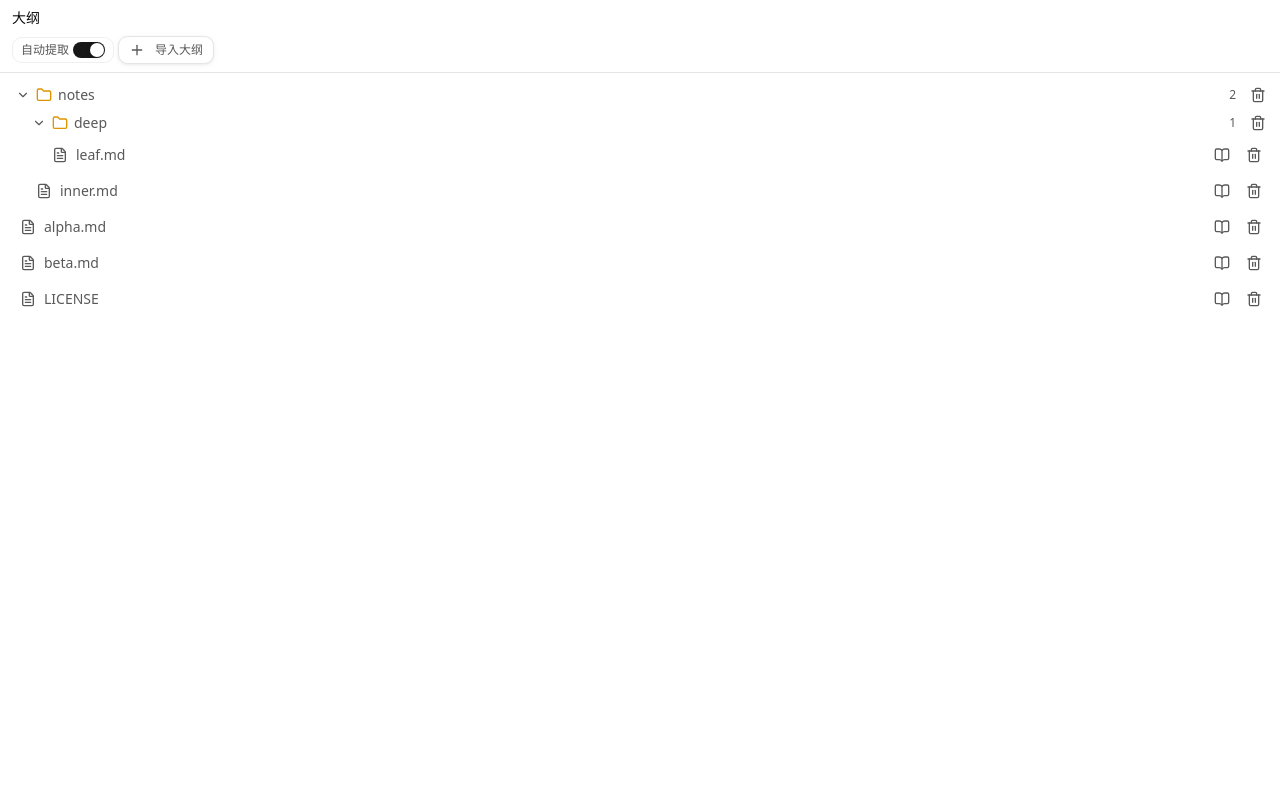
Test: SourceSidebar — 导入菜单 › 导入菜单：外部 mousedown / Escape 关闭，菜单内点击不关闭
The width and height of the screenshot is (1280, 800).
Expected: the text "alpha.md" is shown, 44,217 -> 106,237
Click the button "导入大纲": (166, 50) 118,36 -> 214,64
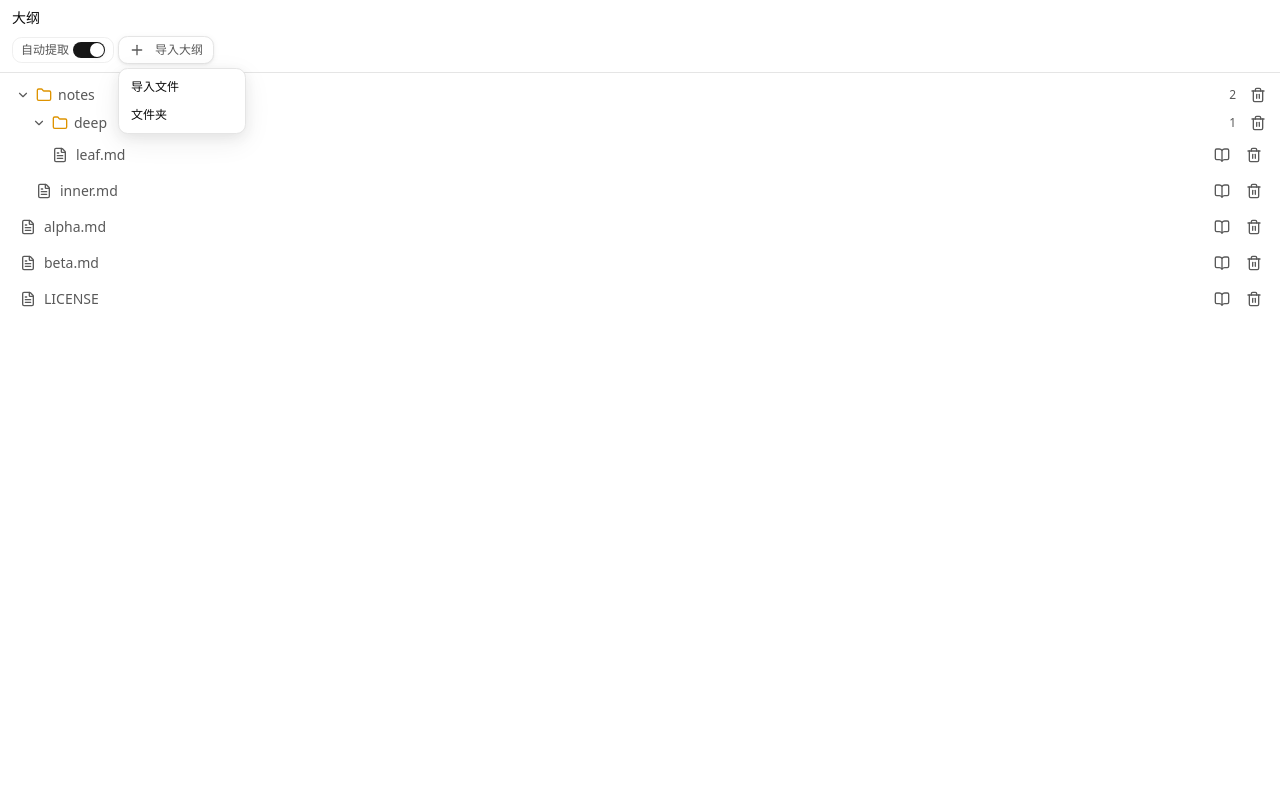
Expected: the button "导入文件" is shown
// 菜单内 pointerdown → 保持打开
Press the mouse on the button "导入文件": (182, 87) 119,73 -> 245,101
Expected: the button "导入文件" is shown, 119,73 -> 245,101
// 外部 pointerdown → 关闭
Press the mouse on the element that starts with "自动提取": (640, 400) 0,0 -> 1279,799
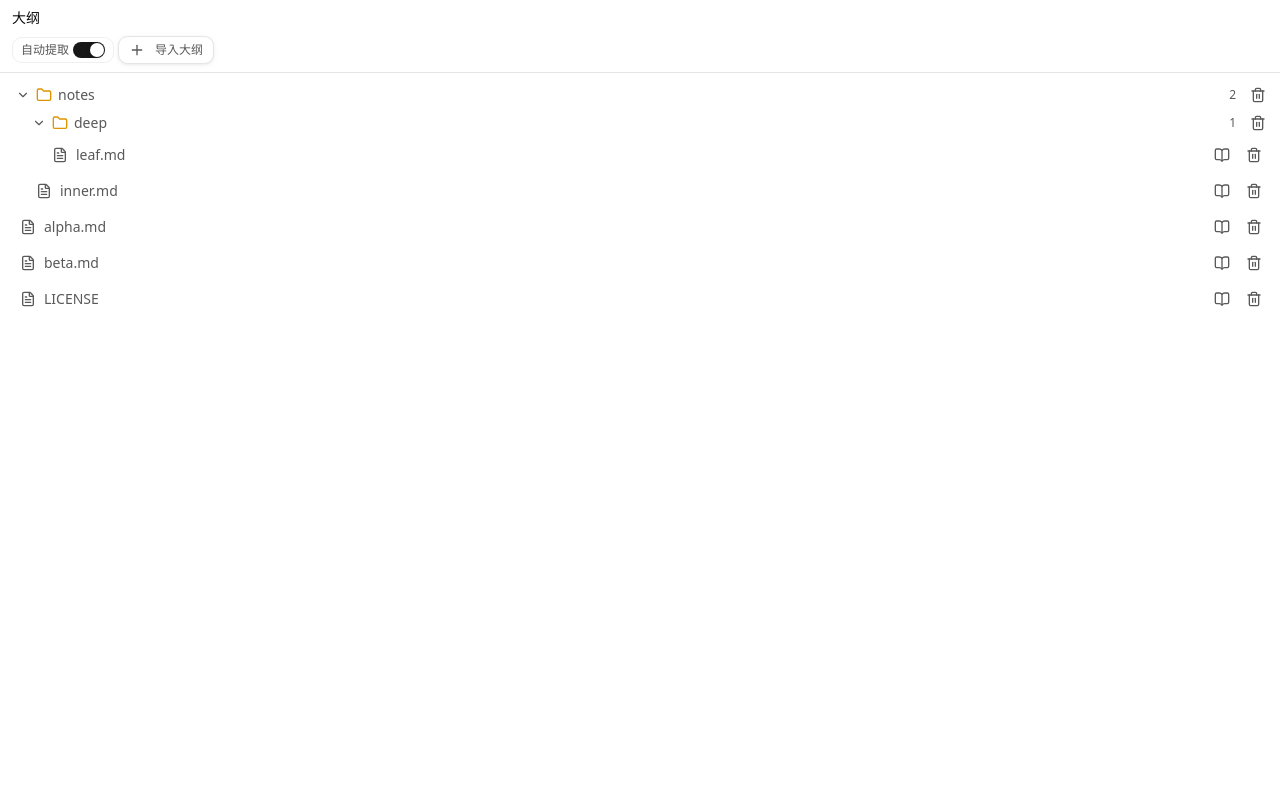
Expected: the button "导入文件" is gone
// 重新打开后 Escape 关闭
Click the button "导入大纲": (166, 50) 118,36 -> 214,64
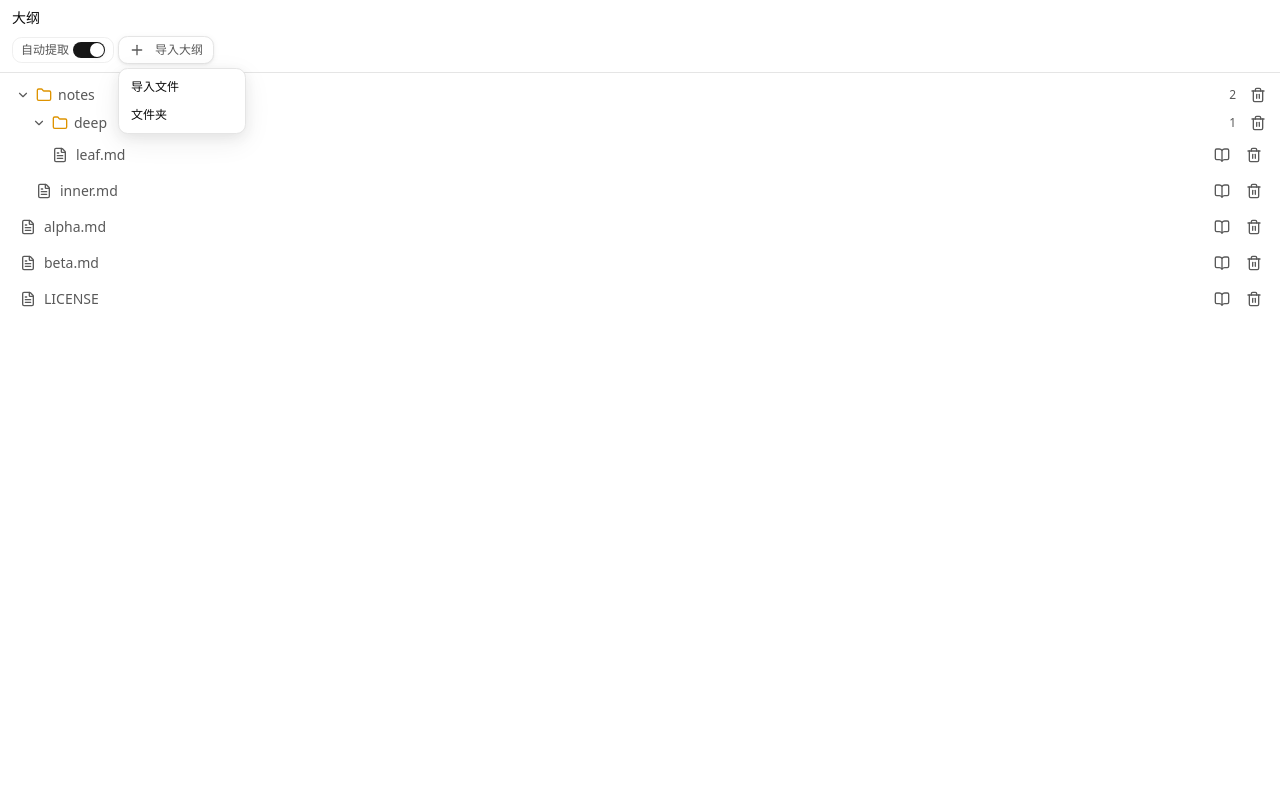
Expected: the button "导入文件" is shown, 119,73 -> 245,101
Press a
Expected: the button "导入文件" is shown, 119,73 -> 245,101
Press Escape
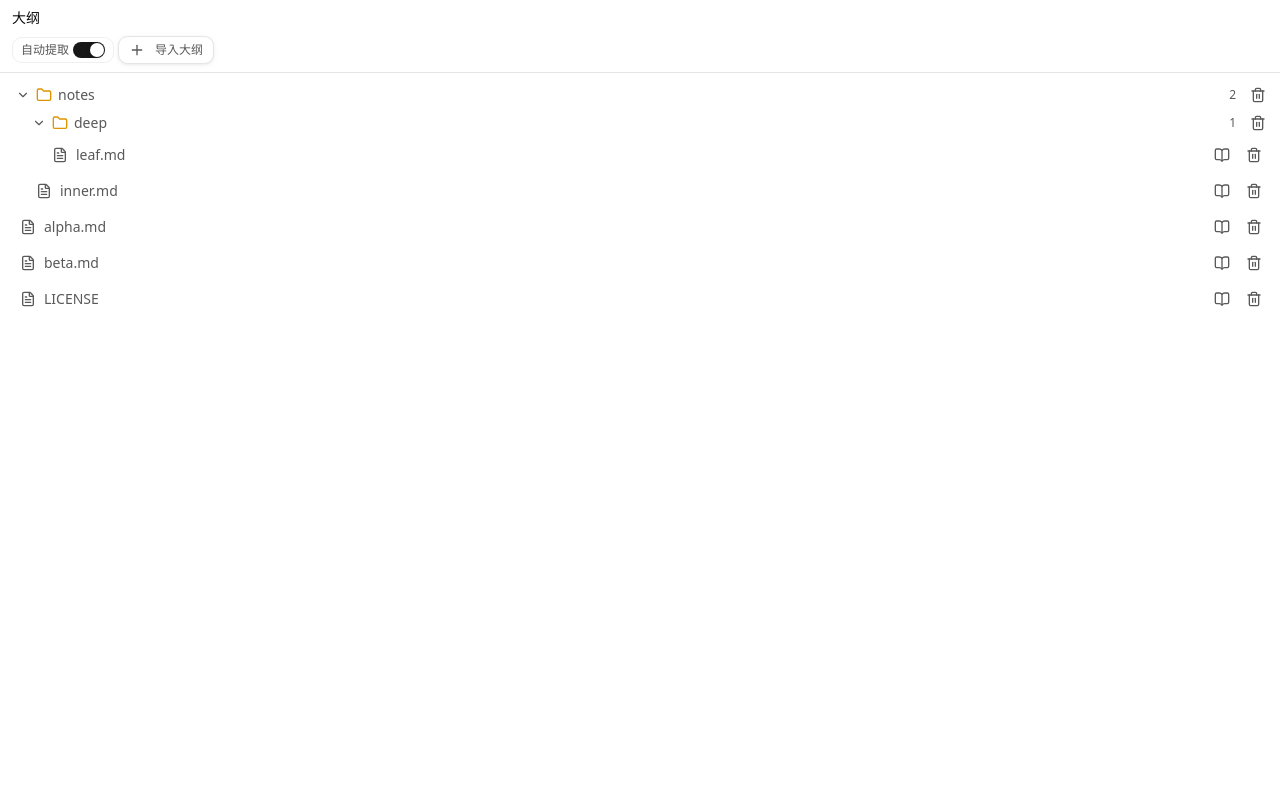
Expected: the button "导入文件" is gone
